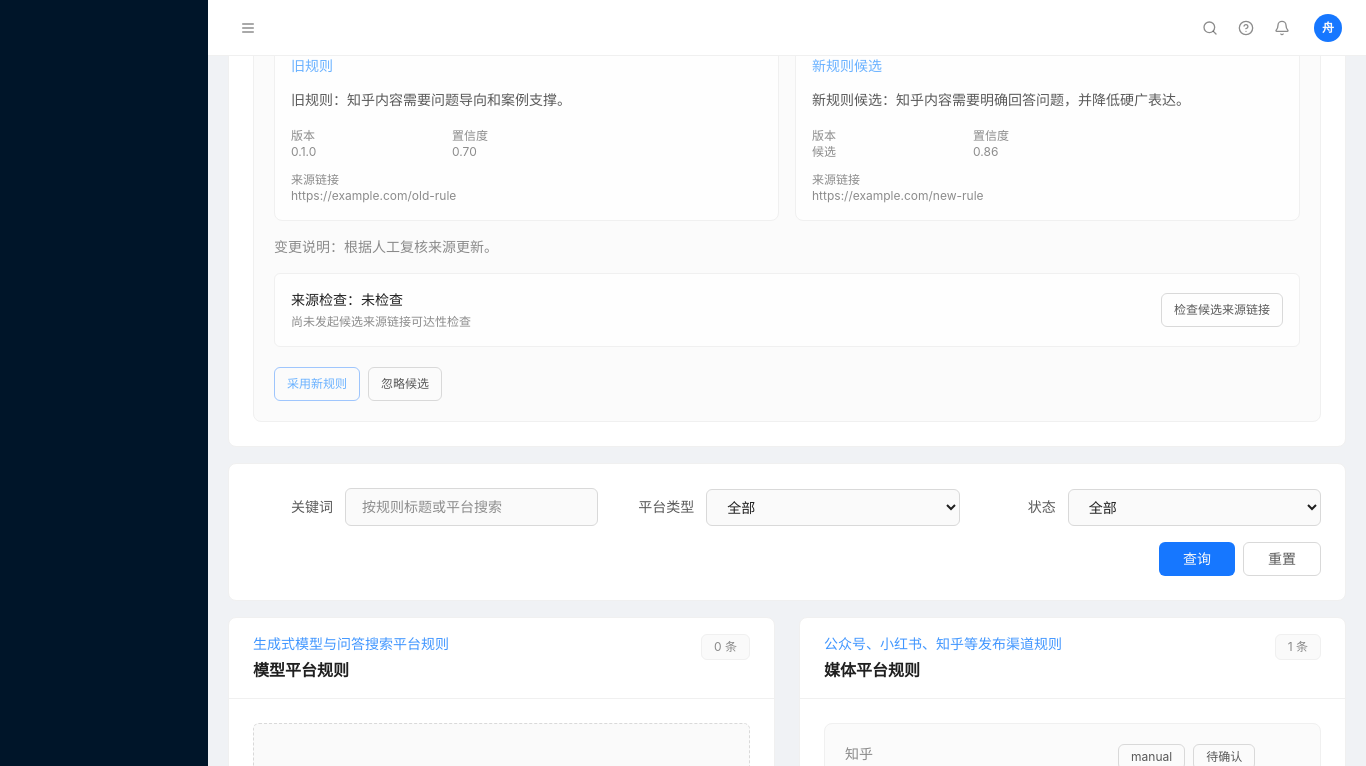
Test: P2.1 rule source review queue › accepts source review proposals without fabricating success
(page scrolled)
Click the button with aria-label "采用新规则 知乎 GEO 来源规则": (317,384) [274,367,360,401]
(page scrolled)
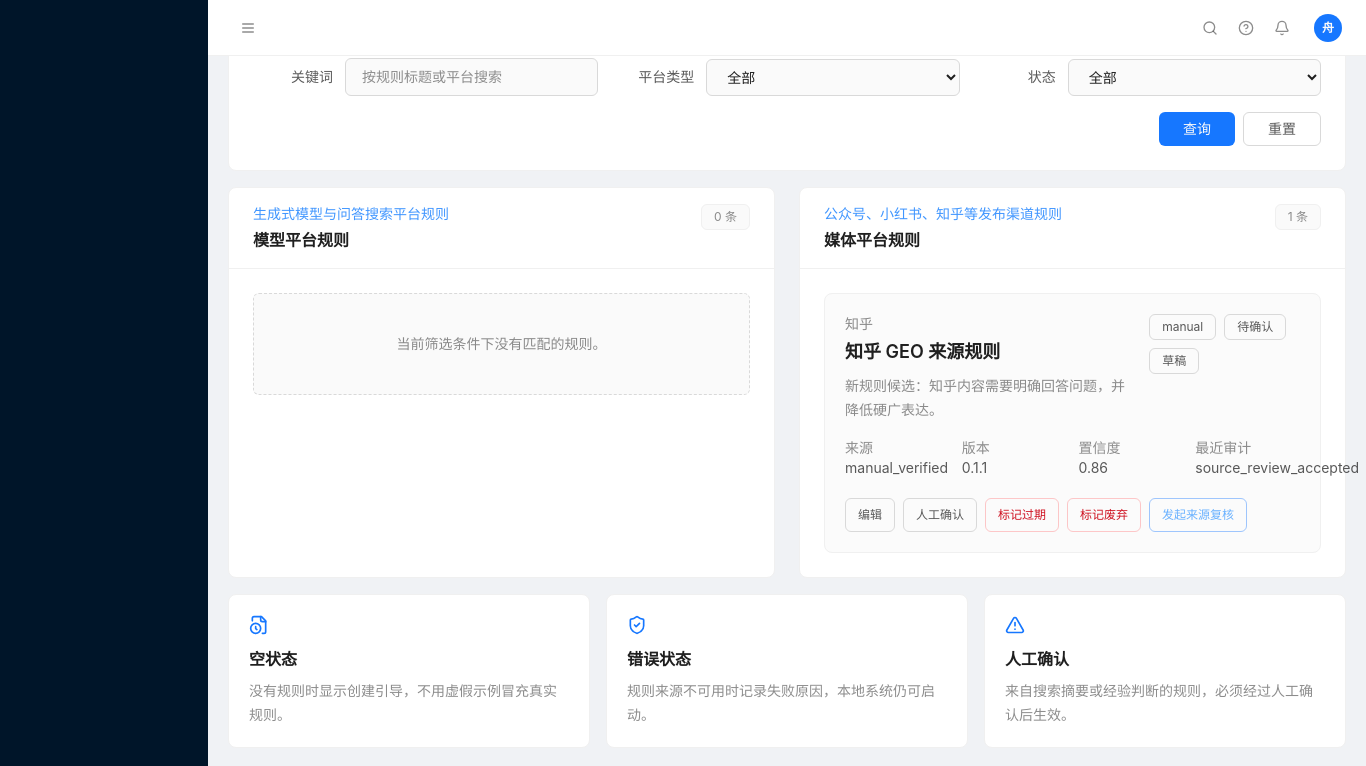
Now the text "source_review_accepted" is shown, box [1195,458,1300,478]
